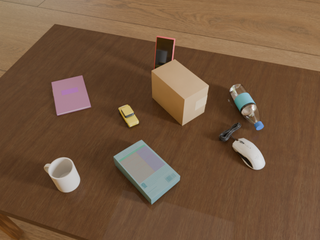book: (114, 140, 180, 204), (52, 76, 91, 115)
bottle: (229, 84, 264, 130)
box: (152, 60, 209, 126)
cup: (44, 158, 80, 192)
mouse: (233, 138, 265, 169)
phone: (154, 36, 175, 69)
toy_car: (118, 105, 139, 127)
